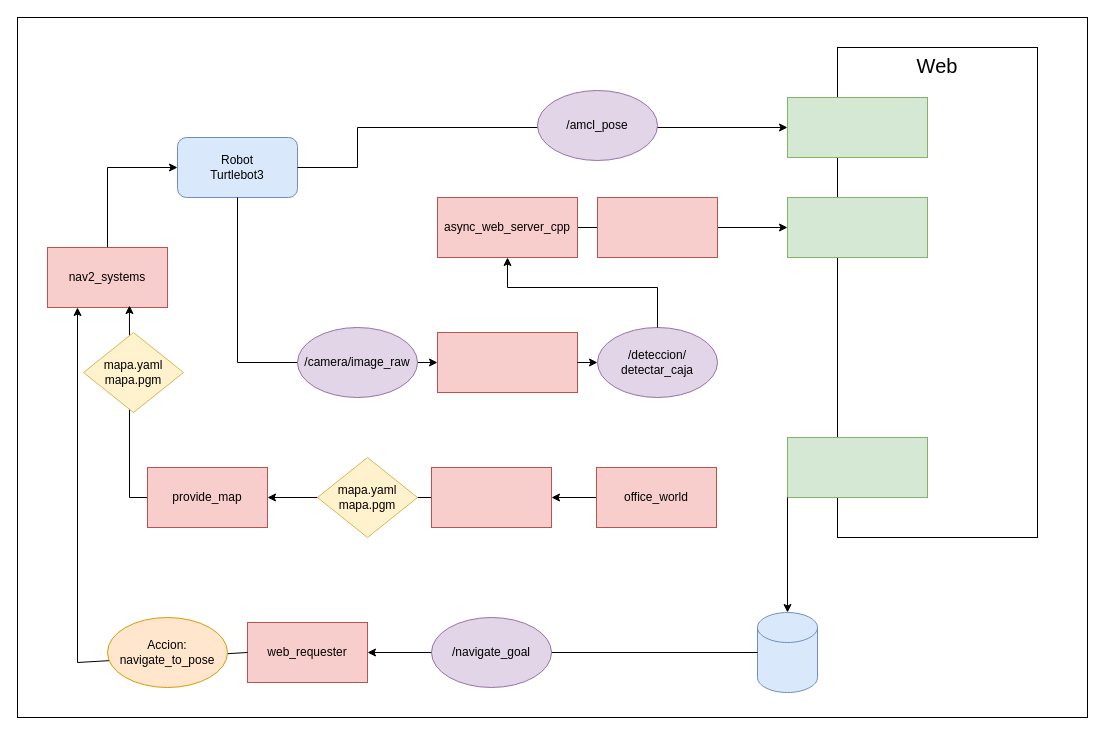
The diagram is 1105 pixels wide and 735 high, and some of its shapes have lost their labels. The shapes that lost their labels are listed below. From the top down, each one's centre as x and y in pixels, then its label:
At point 857,127: "mapa()".
At point 657,227: "web_video_server".
At point 857,227: "updateCamaraF eed()".
At point 507,362: "capture_image/ detectar_caja.py".
At point 857,467: "mandarRobotACoords()".
At point 491,497: "slam".
At point 787,652: "BBDD".
